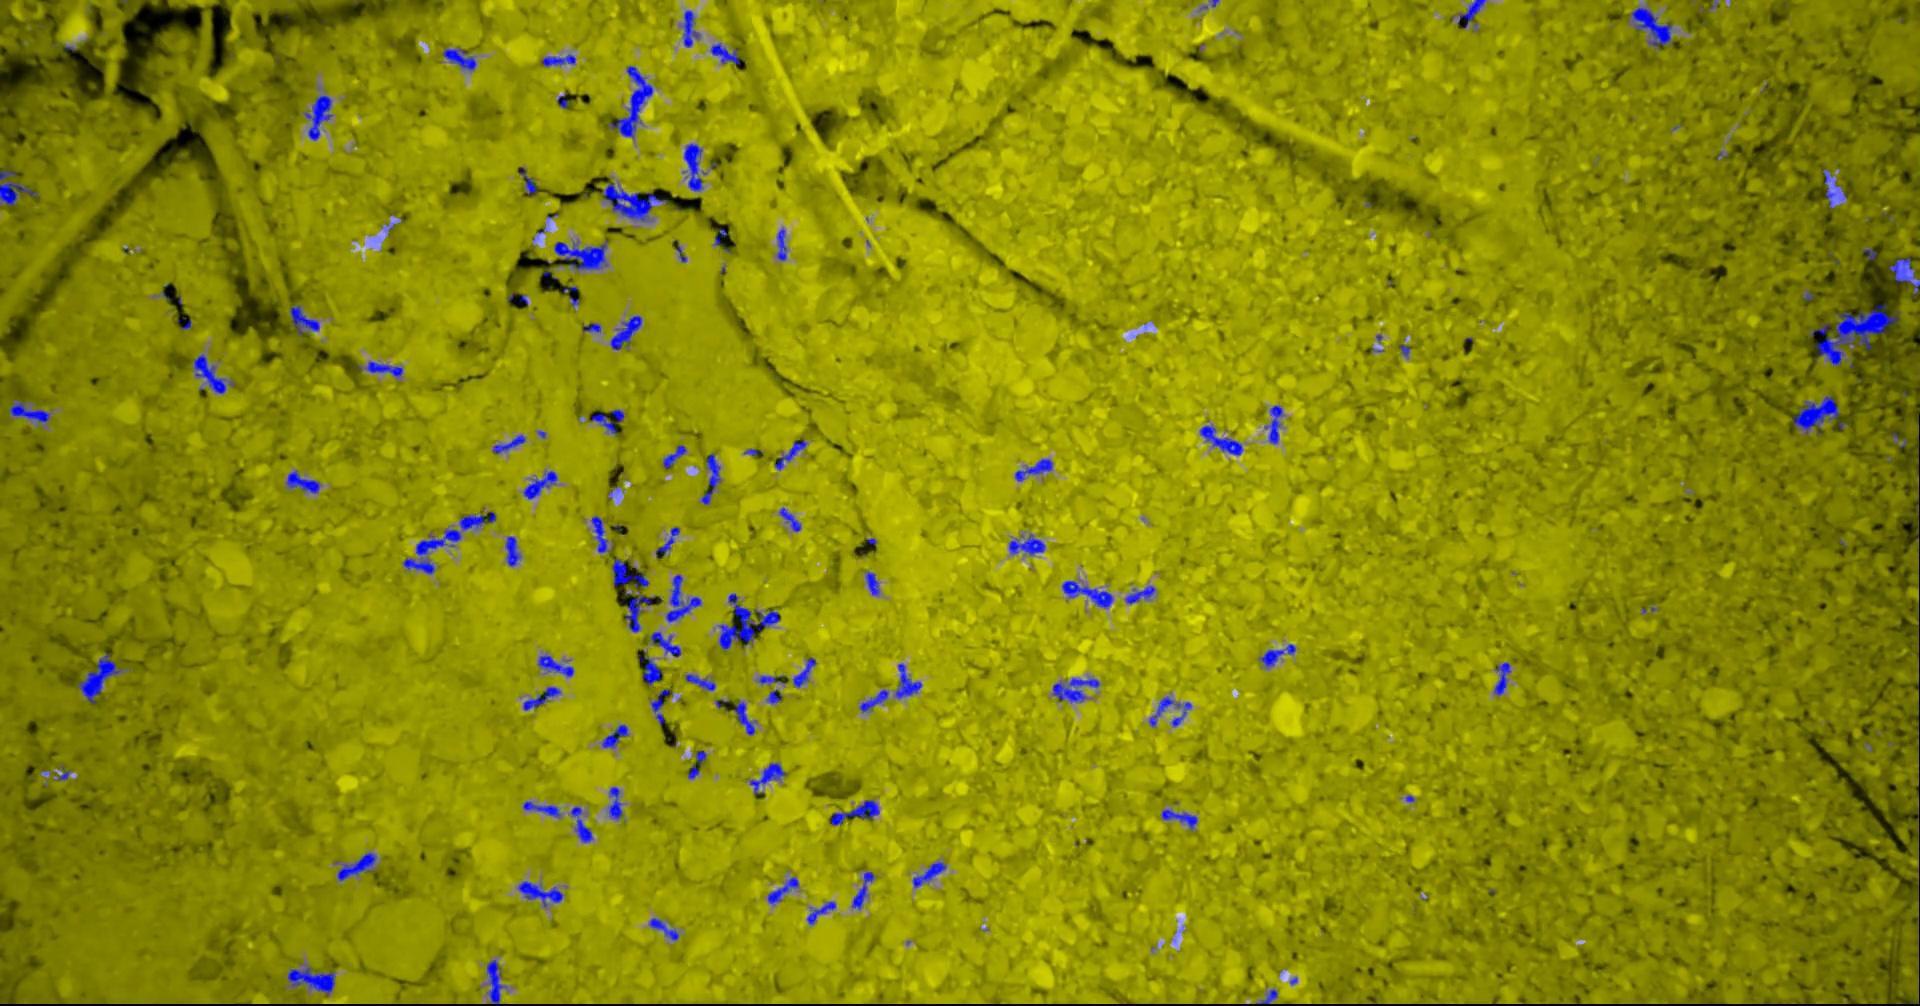ant: (607, 65, 651, 138), (601, 183, 665, 221), (77, 653, 123, 702), (1790, 395, 1839, 434), (665, 574, 701, 621), (554, 239, 607, 269), (1630, 8, 1672, 46), (193, 354, 232, 392), (623, 594, 662, 633), (0, 169, 38, 205), (1062, 580, 1112, 607), (1148, 696, 1191, 727), (287, 967, 334, 995), (1199, 426, 1242, 455), (303, 95, 331, 140), (830, 799, 879, 824), (1051, 677, 1098, 702), (749, 762, 785, 795), (517, 880, 563, 906), (683, 144, 707, 191), (1888, 257, 1919, 293), (337, 852, 376, 880), (610, 315, 641, 349), (611, 558, 648, 587), (522, 470, 557, 499), (700, 453, 720, 504), (8, 399, 50, 422), (290, 304, 319, 335), (775, 439, 806, 469), (522, 686, 560, 710), (895, 663, 921, 699), (1258, 643, 1295, 667), (851, 871, 874, 909), (486, 959, 505, 1005), (767, 876, 797, 904), (1015, 459, 1051, 481), (912, 861, 945, 887), (637, 650, 662, 683), (1008, 533, 1045, 555), (284, 470, 319, 493), (731, 700, 754, 734), (570, 807, 592, 842), (655, 526, 679, 558), (650, 688, 670, 725), (1161, 809, 1197, 829), (442, 48, 476, 70), (650, 631, 681, 655), (792, 657, 817, 687), (1263, 405, 1283, 443), (590, 514, 610, 553), (537, 655, 573, 676), (1458, 0, 1484, 27), (858, 688, 888, 713), (648, 917, 678, 940), (806, 901, 836, 923), (601, 724, 629, 747), (491, 434, 524, 453), (522, 800, 560, 817), (682, 10, 698, 47), (710, 43, 739, 64), (590, 412, 616, 434), (1821, 168, 1835, 208), (366, 361, 403, 376), (687, 749, 706, 779), (1125, 586, 1156, 603), (662, 445, 684, 467), (778, 507, 800, 531), (504, 536, 521, 567), (1495, 662, 1510, 695), (519, 166, 536, 196), (684, 674, 715, 690), (608, 786, 622, 819), (541, 55, 575, 66), (776, 227, 786, 260), (865, 572, 879, 594), (1258, 988, 1277, 1005), (766, 688, 782, 702), (714, 227, 726, 245), (757, 674, 782, 683), (582, 323, 599, 332), (611, 409, 623, 420)
